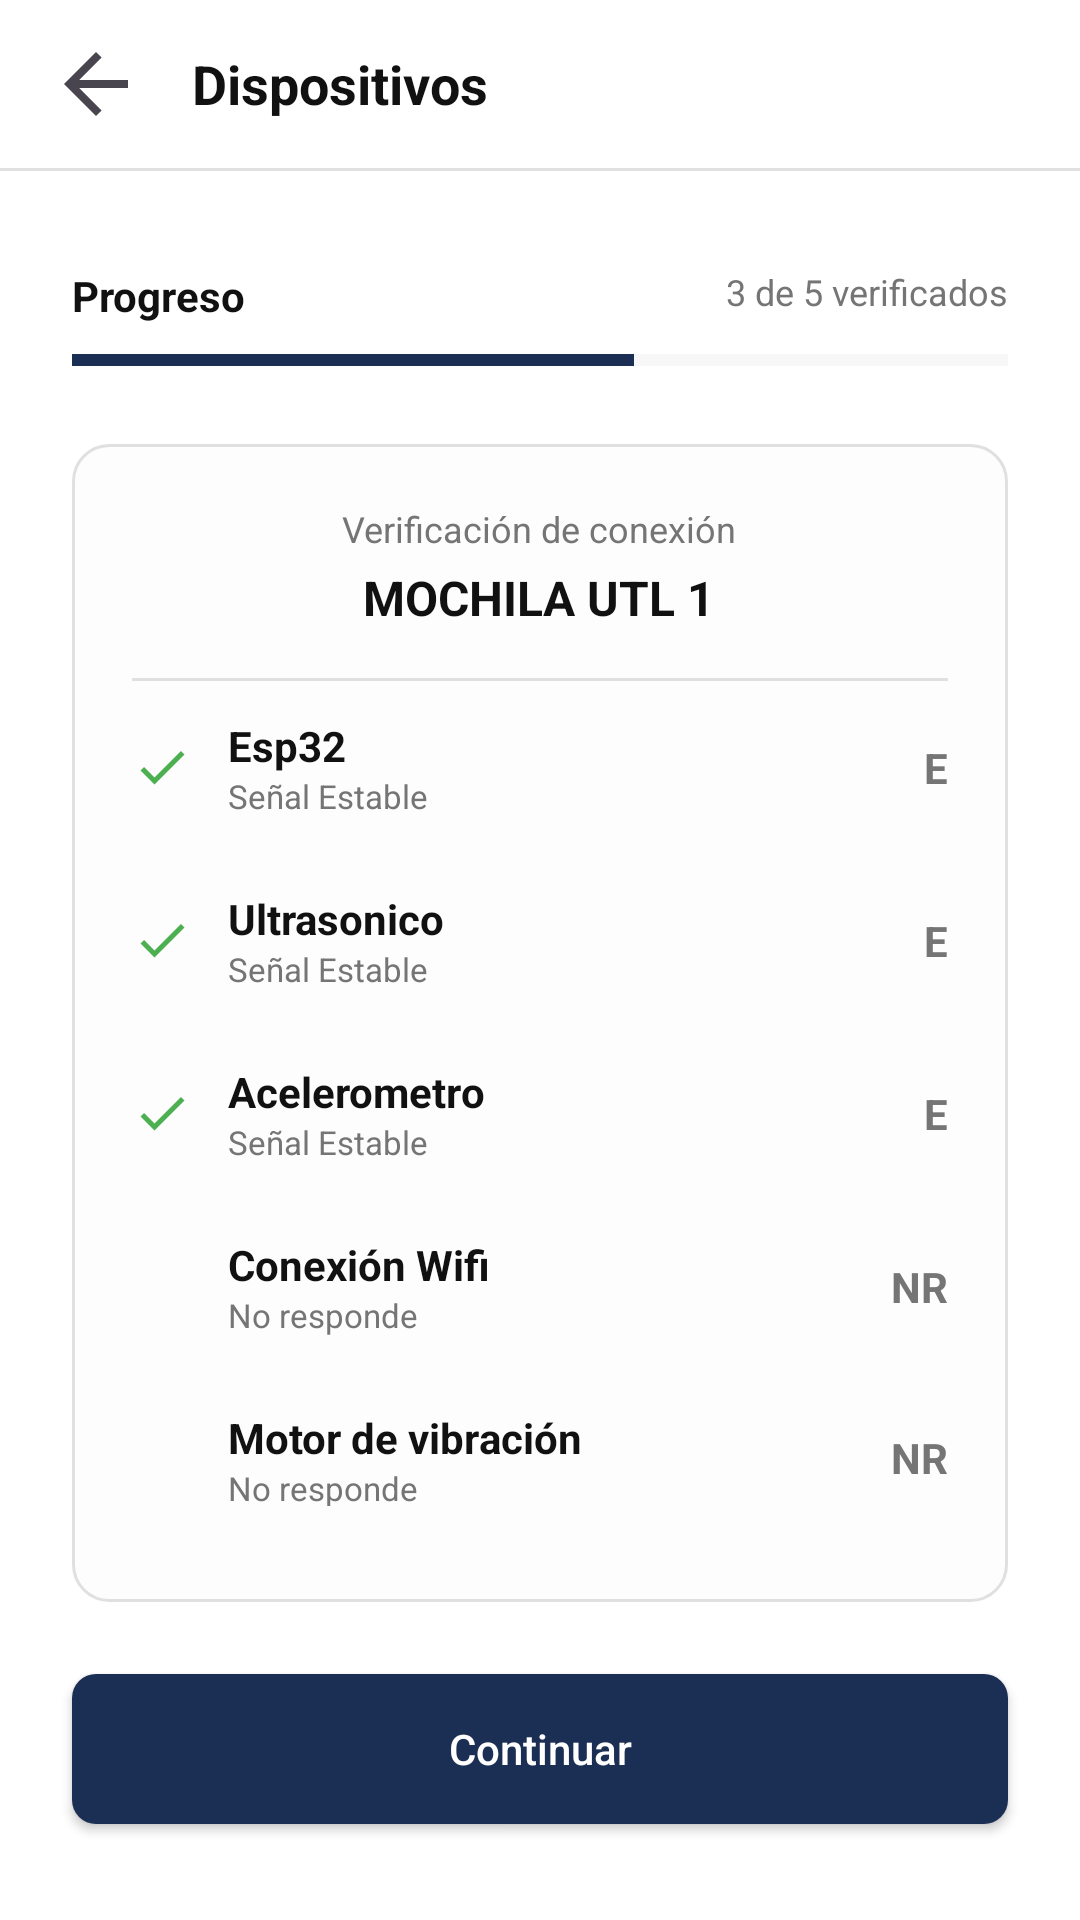

Screen size 1080 × 1920. Icon name, then its box in pixels as (x1, y1, x2, y2):
check: (140, 751, 185, 785), (140, 924, 185, 958), (140, 1097, 185, 1131)
Regresar: (64, 52, 128, 116)
